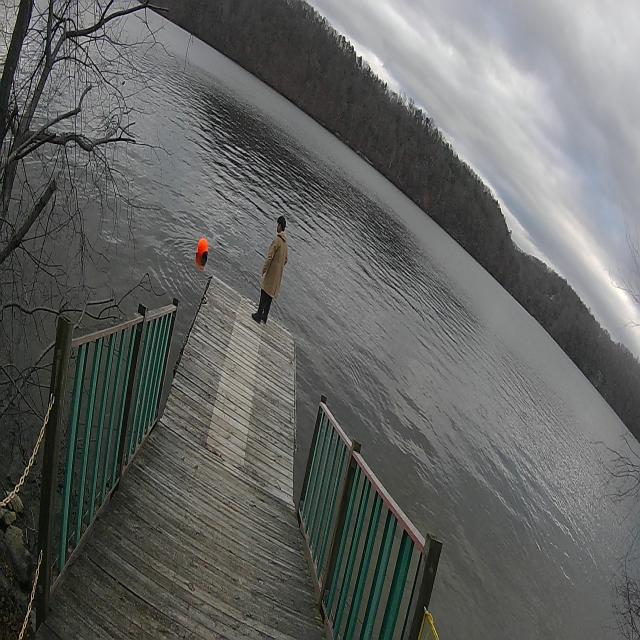Buoy: (195, 232, 210, 267)
